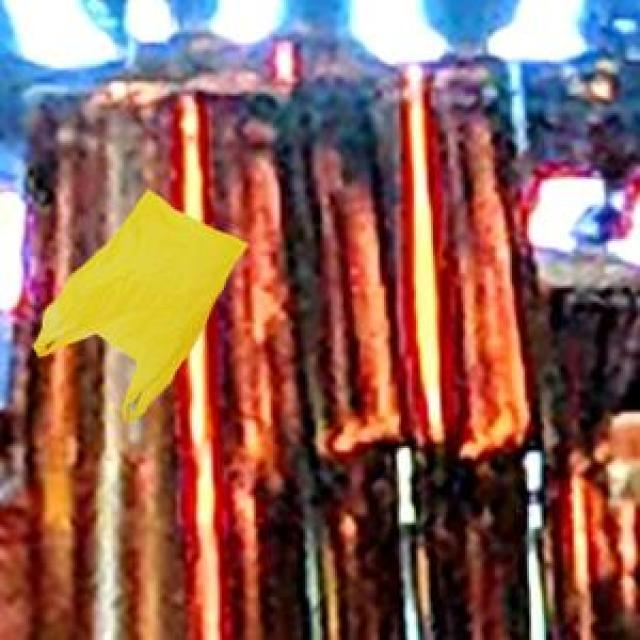Plastic_Bag: (31, 186, 244, 420)
